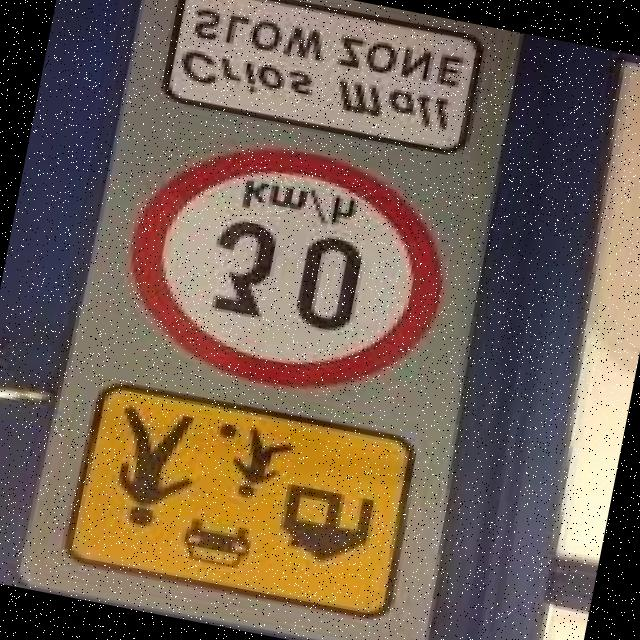speed_limit_30: (101, 120, 466, 422)
